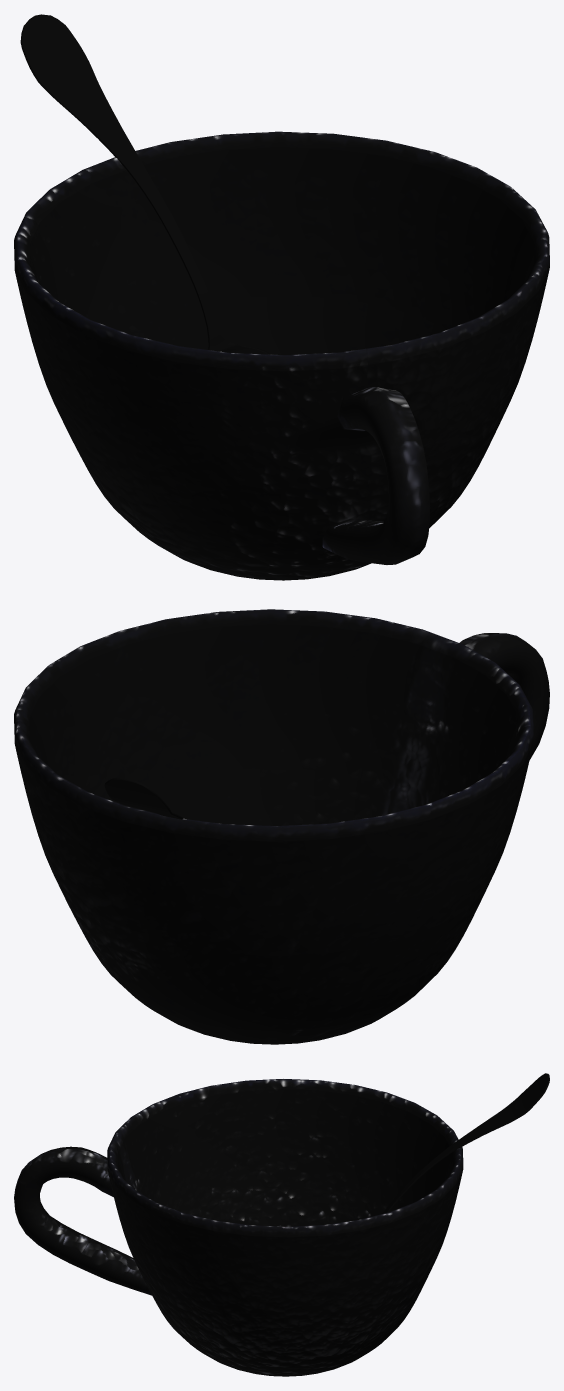
3 renders of one model, top to bottom at view 1: azimuth 30°, elevation 25°; view 2: azimuth 150°, elevation 25°; view 3: azimuth 270°, elevation 25°, orthographic. The views are drawn at different scales.
Parts seen in each view (by area): view 1: кружка для лабы 44444444444, ложка с разверткой; view 2: кружка для лабы 44444444444, ложка с разверткой; view 3: кружка для лабы 44444444444, ложка с разверткой.
Boxes of the visible parts, x1,y1,x2,y2 form: кружка для лабы 44444444444: (14, 131, 549, 580); ложка с разверткой: (20, 14, 270, 354); кружка для лабы 44444444444: (14, 609, 549, 1044); ложка с разверткой: (104, 778, 183, 819); кружка для лабы 44444444444: (14, 1079, 463, 1376); ложка с разверткой: (382, 1073, 549, 1213).
Size of the model in its own units: 1.96 by 1.58 by 2.95.
Materials: 2 (2 with a texture image).
